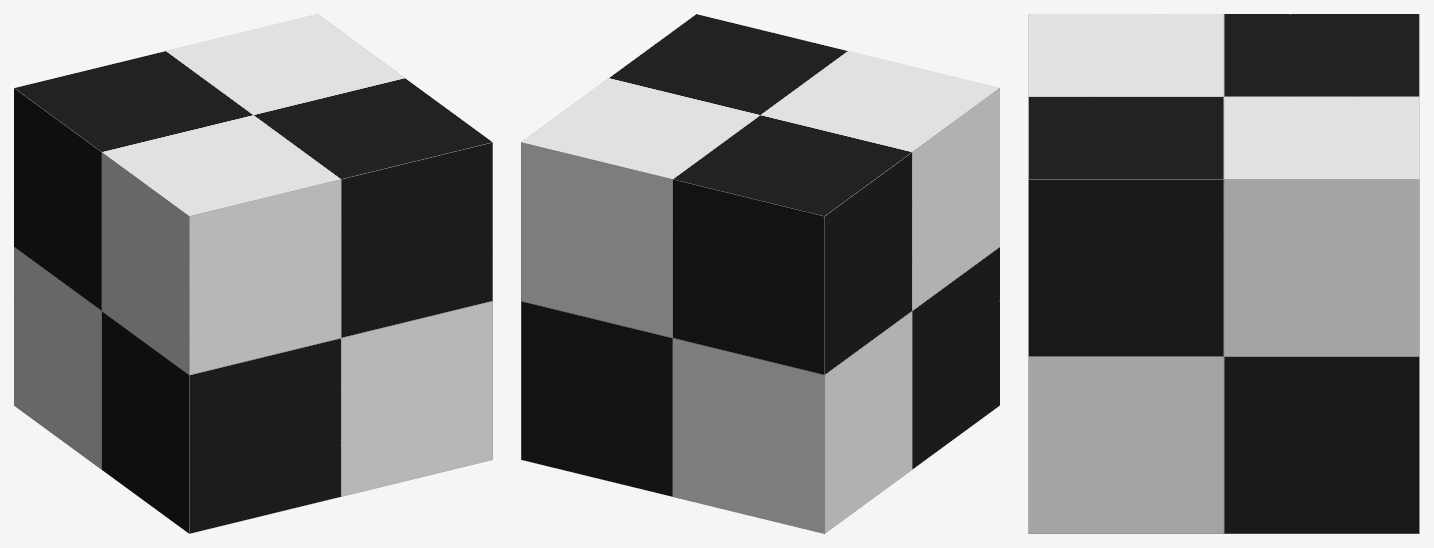
3 views of the same model, side by side, from view 1: azimuth 30°, elevation 25°; view 2: azimuth 150°, elevation 25°; view 3: azimuth 270°, elevation 25° (orthographic). The views are drawn at different scales.
Visible parts, largest first — view 1: Box; view 2: Box; view 3: Box.
Boxes of the visible parts, x1=… form: Box: x1=14, y1=14, x2=492, y2=533; Box: x1=521, y1=14, x2=999, y2=533; Box: x1=1028, y1=14, x2=1419, y2=533.
Bounding box in the file's own units: 1 × 1 × 1.
